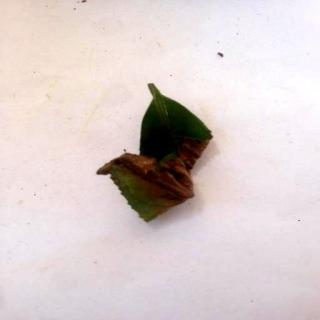Brown Blight: (97, 84, 214, 224)
